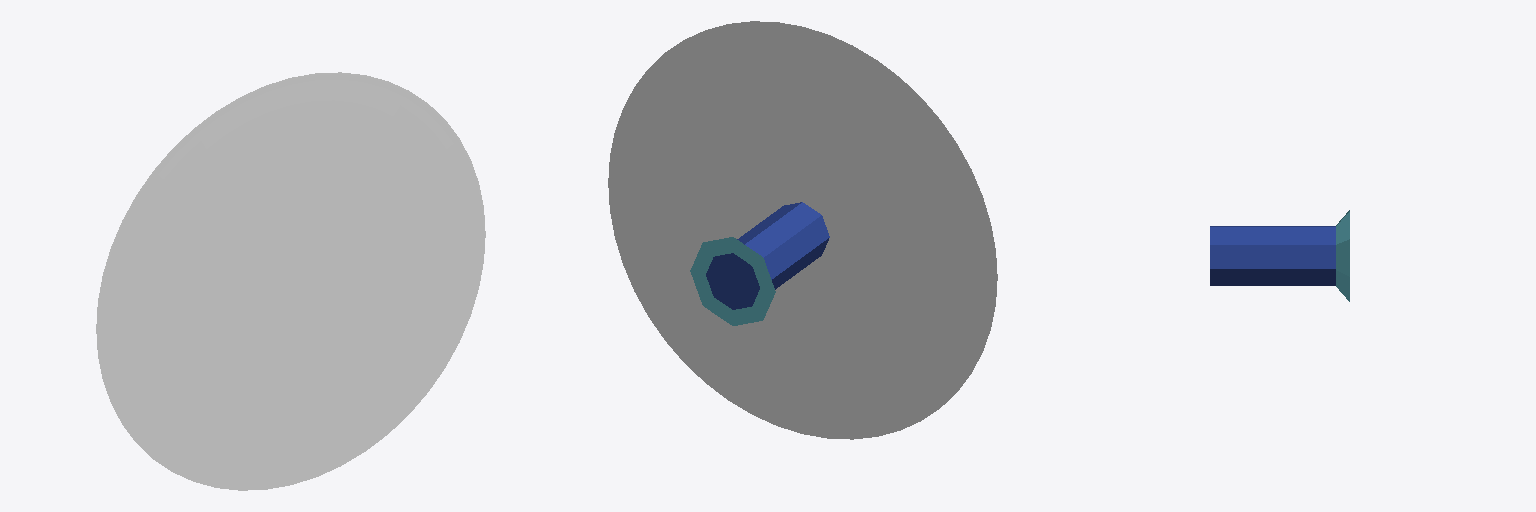
Rendered from tinker.obj.
3 views of the same model, side by side, from view 1: azimuth 30°, elevation 25°; view 2: azimuth 150°, elevation 25°; view 3: azimuth 270°, elevation 25° (orthographic).
Visible parts, largest first — view 1: obj_0; view 2: obj_0; view 3: obj_0.
Part boxes in pixels (x1,y1,x2,y2): obj_0: (96, 72, 485, 490); obj_0: (608, 21, 997, 439); obj_0: (1210, 210, 1349, 301).
Size of the model in its own units: 100 by 100 by 31.08.